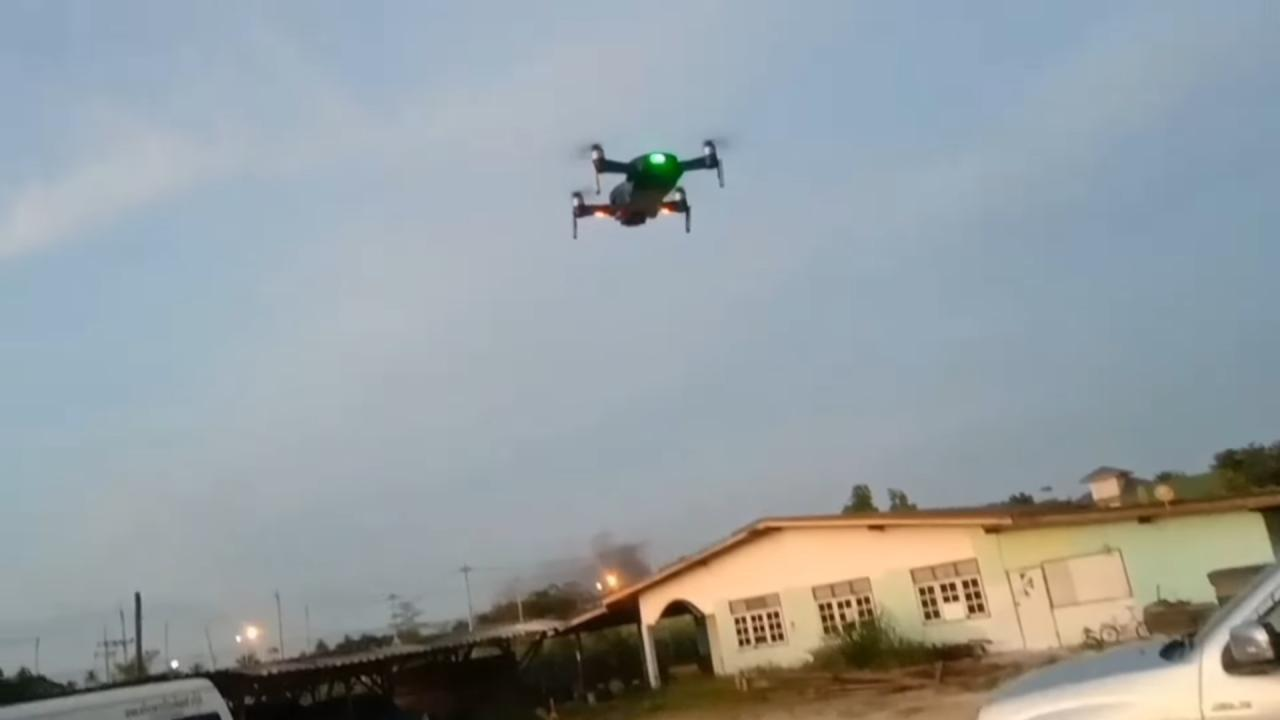Drone: (563, 125, 735, 248)
